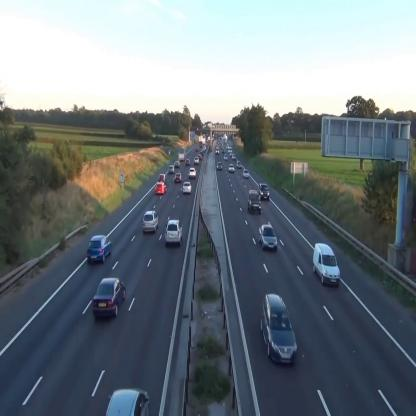car: (260, 294, 300, 372), (91, 277, 126, 321), (312, 240, 341, 288), (106, 385, 150, 416), (87, 228, 113, 264), (258, 220, 278, 255), (139, 210, 160, 239), (165, 218, 184, 249), (248, 190, 262, 213), (259, 182, 270, 202), (154, 181, 167, 195), (182, 180, 192, 194), (188, 166, 197, 180), (157, 173, 167, 185), (168, 164, 175, 175), (228, 163, 235, 174), (193, 155, 200, 166), (243, 168, 250, 178), (216, 161, 222, 171), (236, 160, 242, 169)
lorry: (178, 146, 186, 162)
